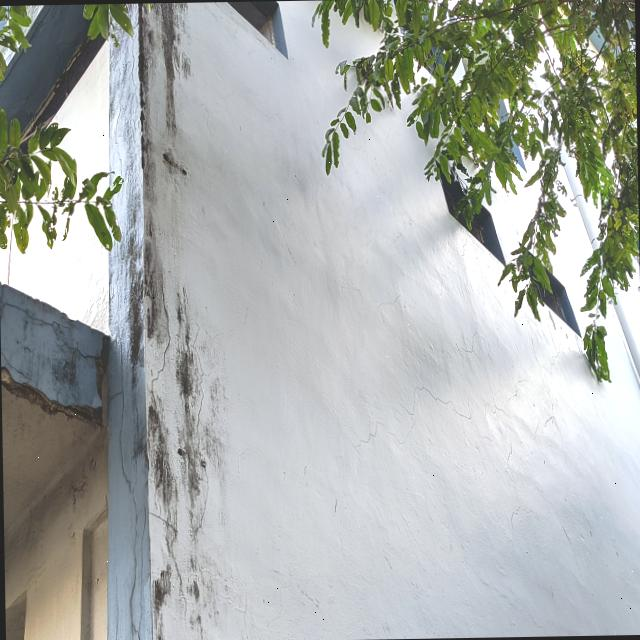crack: (108, 283, 131, 496), (148, 501, 184, 596), (191, 320, 212, 455), (150, 271, 171, 390), (0, 302, 61, 338), (128, 483, 139, 640), (401, 384, 454, 415), (114, 62, 127, 176), (1, 350, 33, 382), (353, 420, 387, 448), (506, 437, 519, 503), (388, 417, 416, 446), (533, 415, 564, 441), (58, 343, 98, 360), (130, 38, 138, 108), (190, 510, 205, 543), (460, 329, 477, 354), (453, 400, 472, 420), (460, 236, 467, 287), (202, 466, 210, 510), (549, 337, 561, 366), (178, 595, 187, 622)
spalling: (1, 335, 109, 427)
stain_mould: (109, 2, 191, 640), (173, 284, 227, 640)
